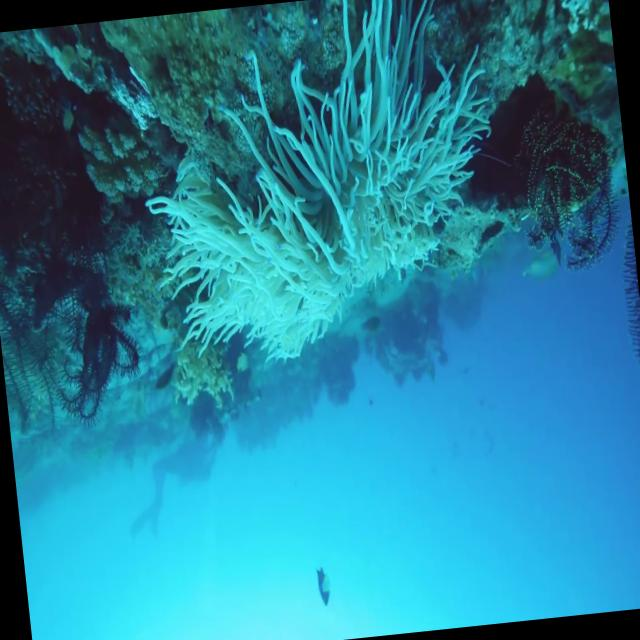fish: (310, 554, 340, 612)
